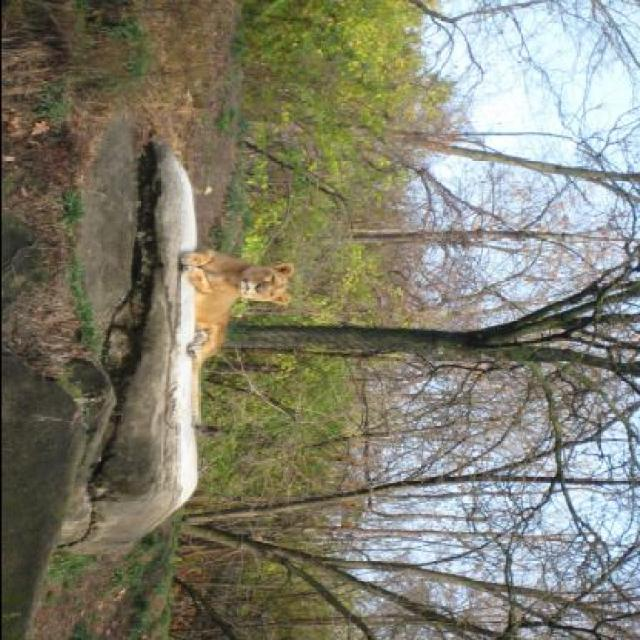Lion: (177, 234, 306, 432)
